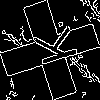K: (25, 25, 79, 71)
